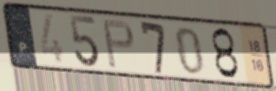0: (173, 25, 208, 76)
4: (39, 12, 66, 66)
5: (68, 13, 102, 70)
7: (138, 19, 167, 76)
8: (210, 26, 240, 80)
P: (100, 18, 137, 71)
